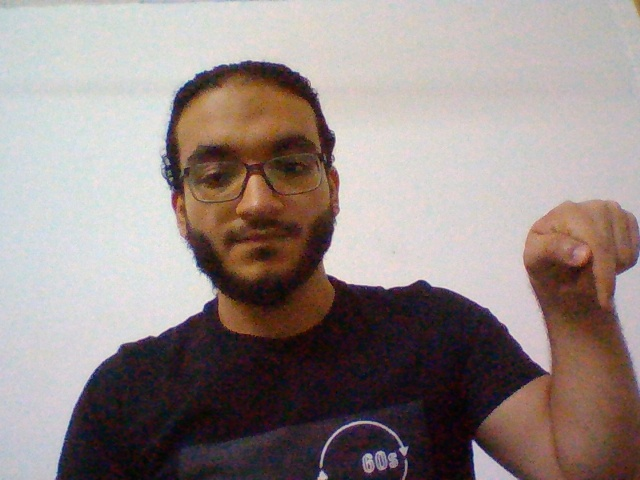Yes: (519, 181, 640, 313)
